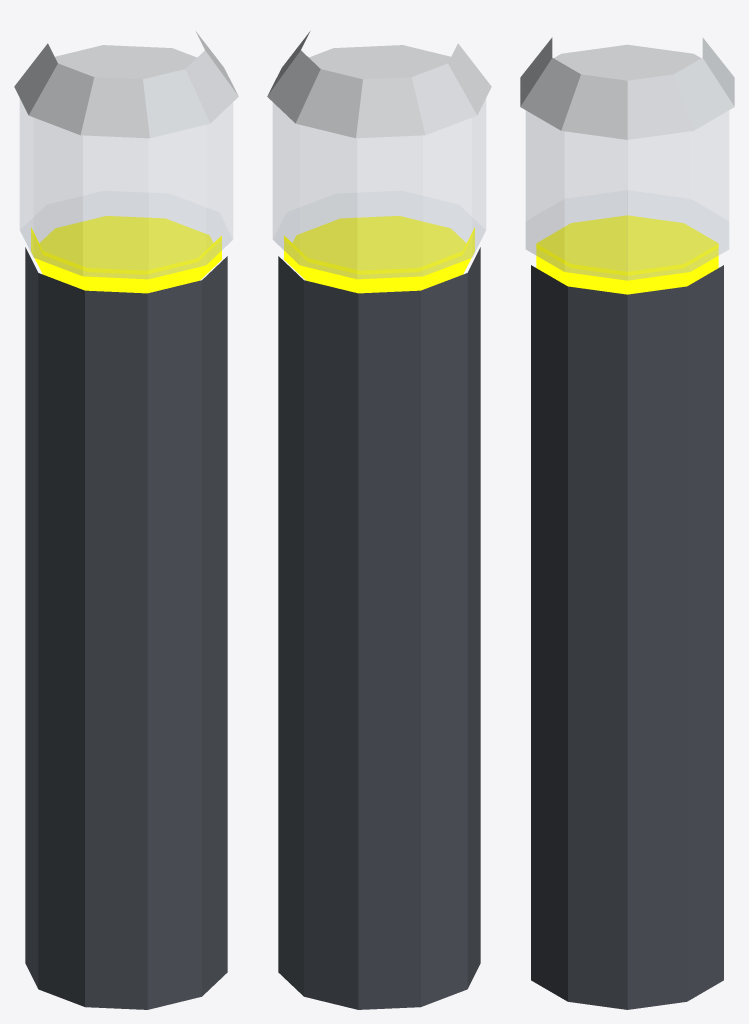
The model's file is ext_bollard_light_01.glb.
3 renders of one model, left to right at view 1: azimuth 30°, elevation 25°; view 2: azimuth 150°, elevation 25°; view 3: azimuth 270°, elevation 25°, orthographic.
Visible parts, largest first — view 1: Post, Glass_Head, Cap, Lamp_Disc; view 2: Post, Glass_Head, Cap, Lamp_Disc; view 3: Post, Glass_Head, Cap, Lamp_Disc.
Part boxes in pixels (x1,y1,x2,y2): Post: (25,247,227,1009); Glass_Head: (20,100,232,278); Cap: (14,31,238,138); Lamp_Disc: (31,216,221,293); Post: (278,247,480,1009); Glass_Head: (273,100,485,278); Cap: (267,31,491,138); Lamp_Disc: (284,216,474,293); Post: (531,265,723,1009); Glass_Head: (526,111,728,280); Cap: (520,37,734,139); Lamp_Disc: (536,215,718,294).
Bounding box in the file's own units: 0.2 × 0.9 × 0.1902.
